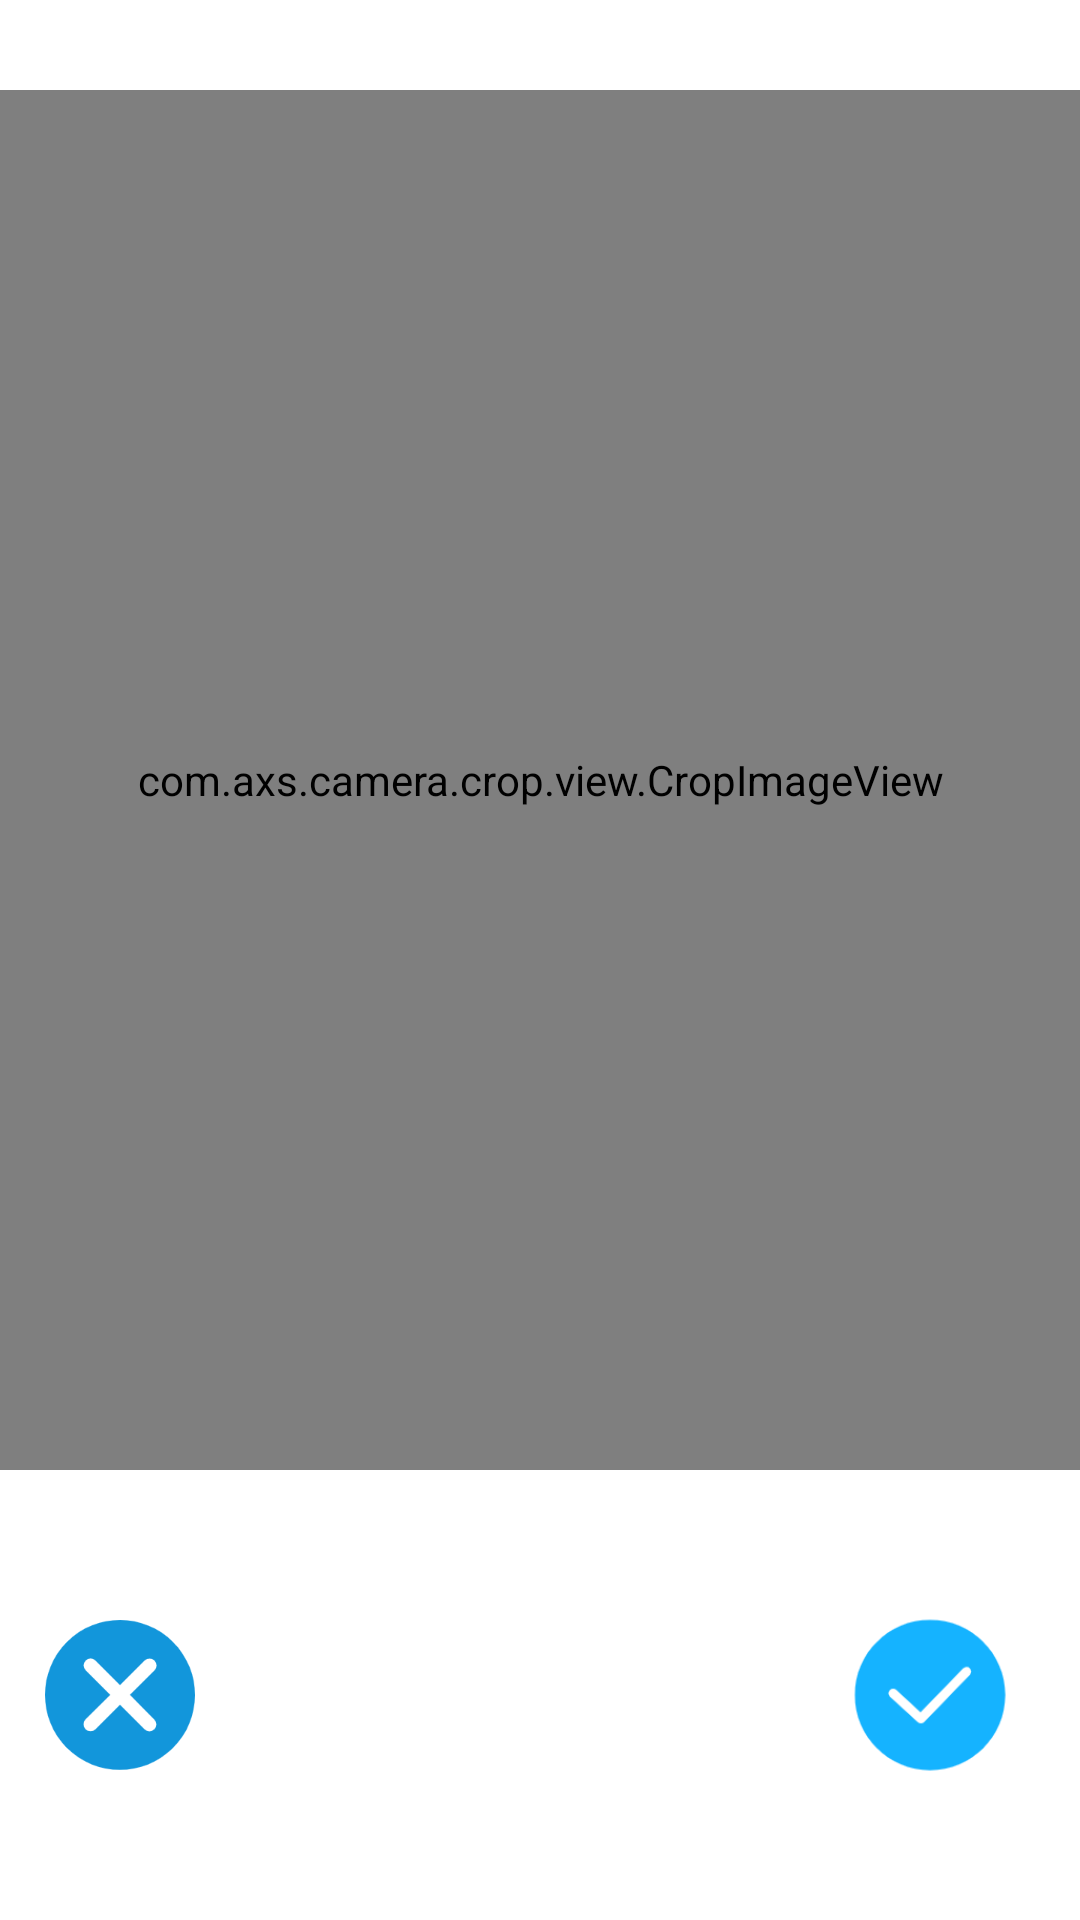

Icon click points for this 1080px×1920px phone screenshot, format (x,y):
failed: (120,1695)
success: (930,1695)
